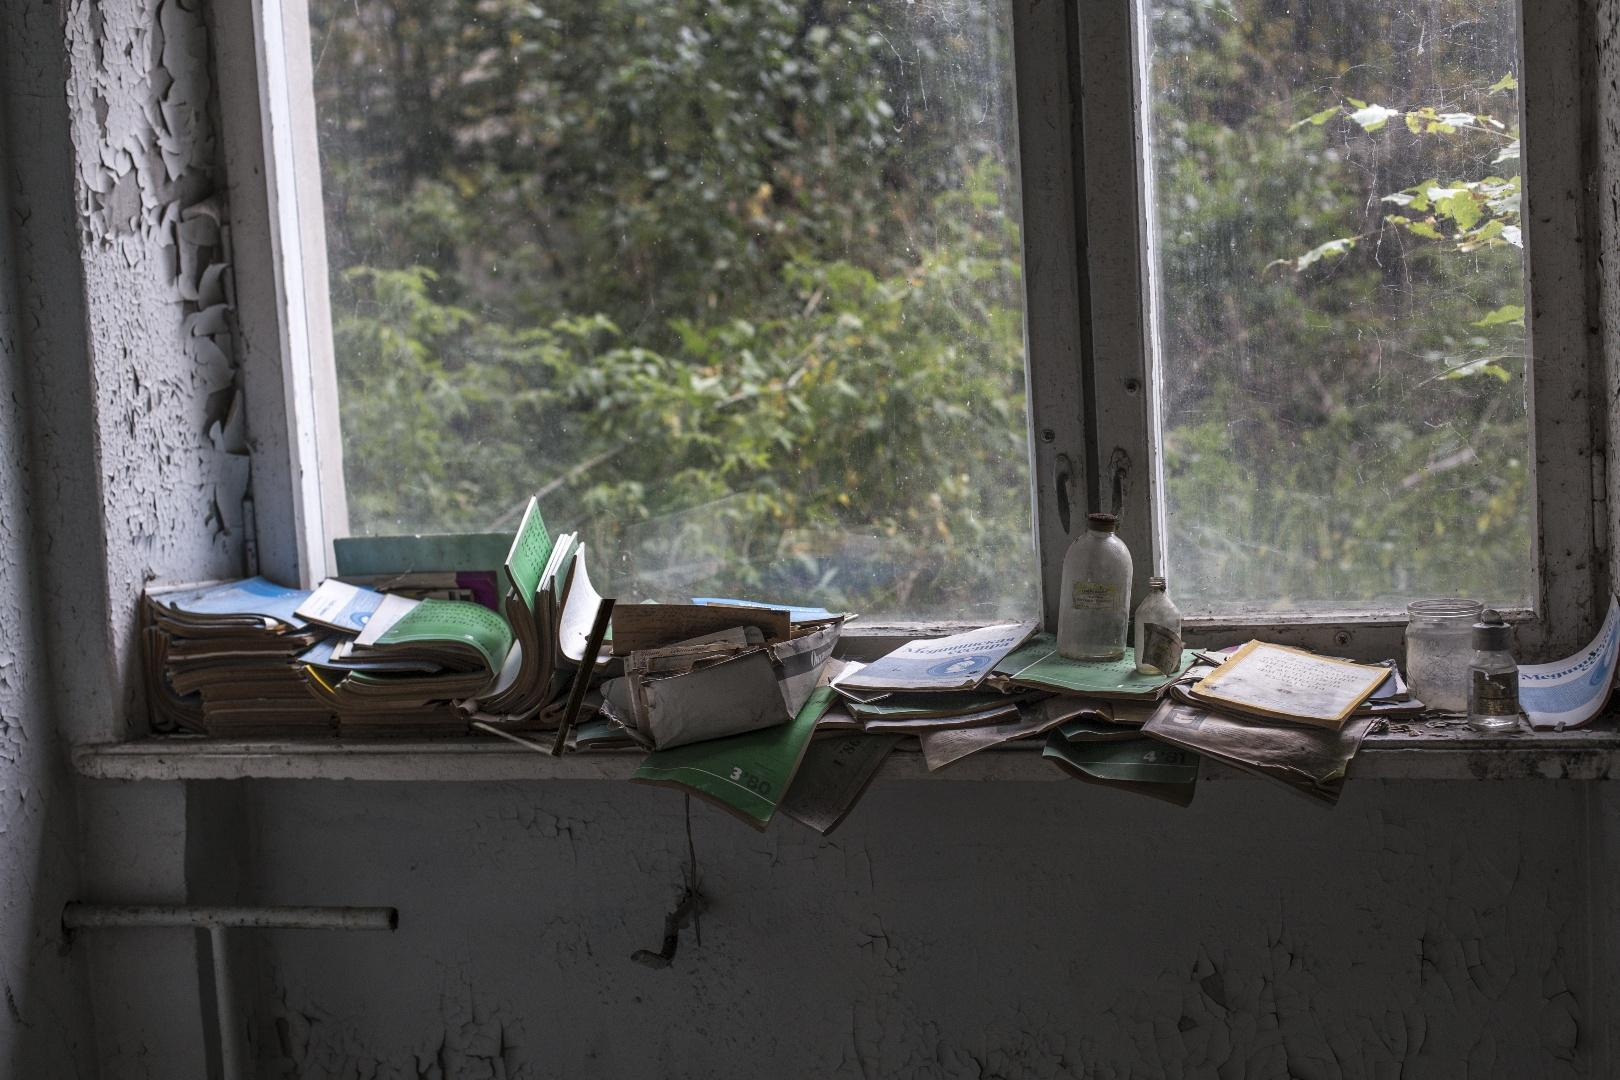trashbox-cardboard: (370, 599, 620, 984)
